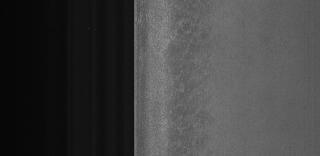silk spot: (166, 13, 216, 137)
